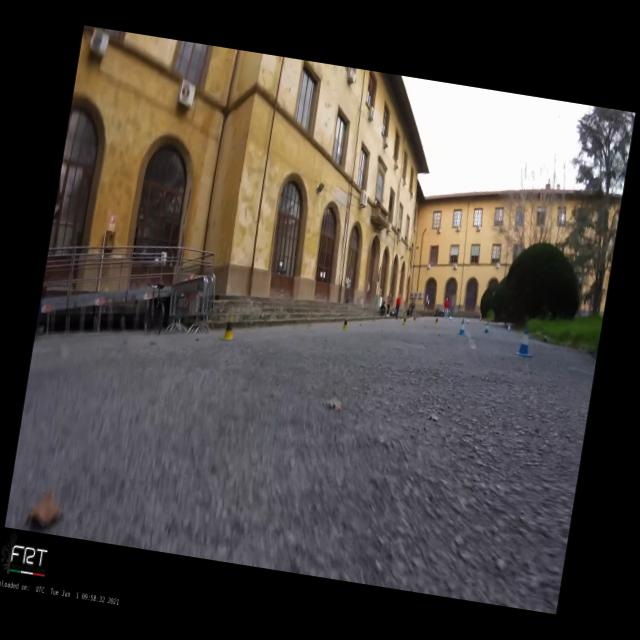blue_cone: (514, 326, 536, 358), (458, 319, 468, 336), (484, 322, 491, 334), (466, 318, 469, 324)
large_orange_cone: (479, 313, 483, 321)
yellow_cone: (218, 313, 240, 343), (342, 318, 349, 330), (402, 316, 408, 326), (434, 318, 440, 324), (414, 316, 417, 323)
